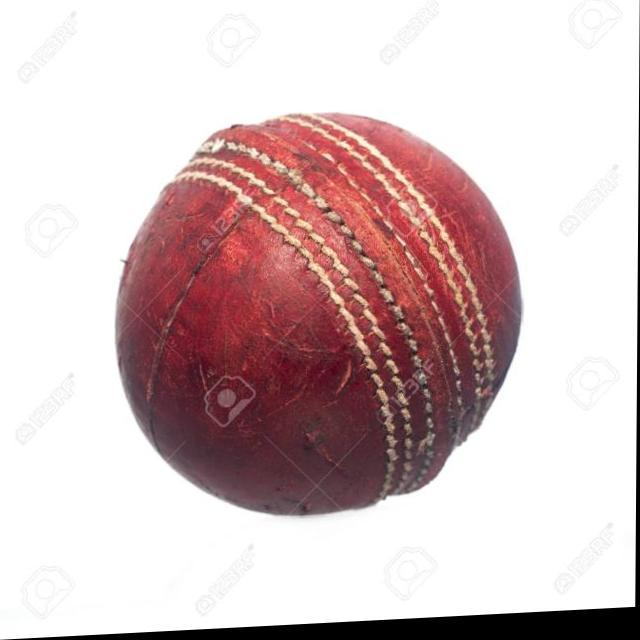cricket ball: (115, 115, 523, 521)
